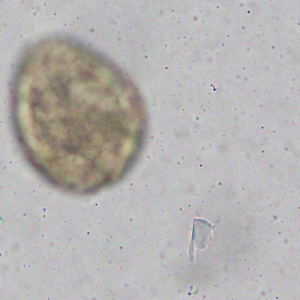Fasciola_hepatica_egg: (11, 33, 146, 196)
